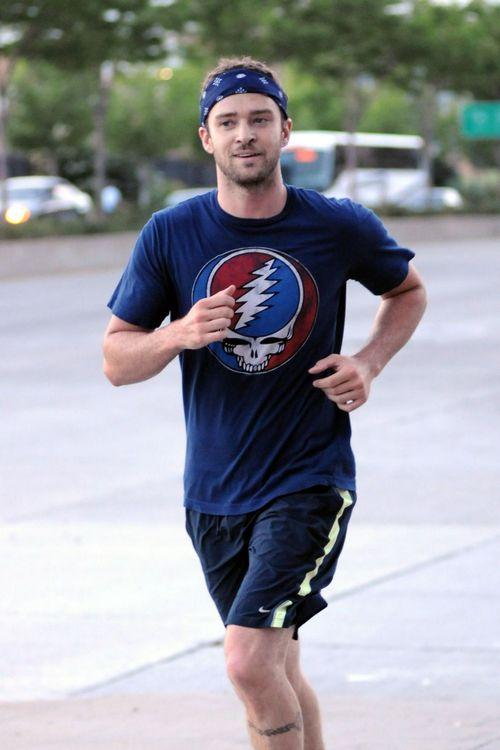person: (100, 50, 433, 749)
